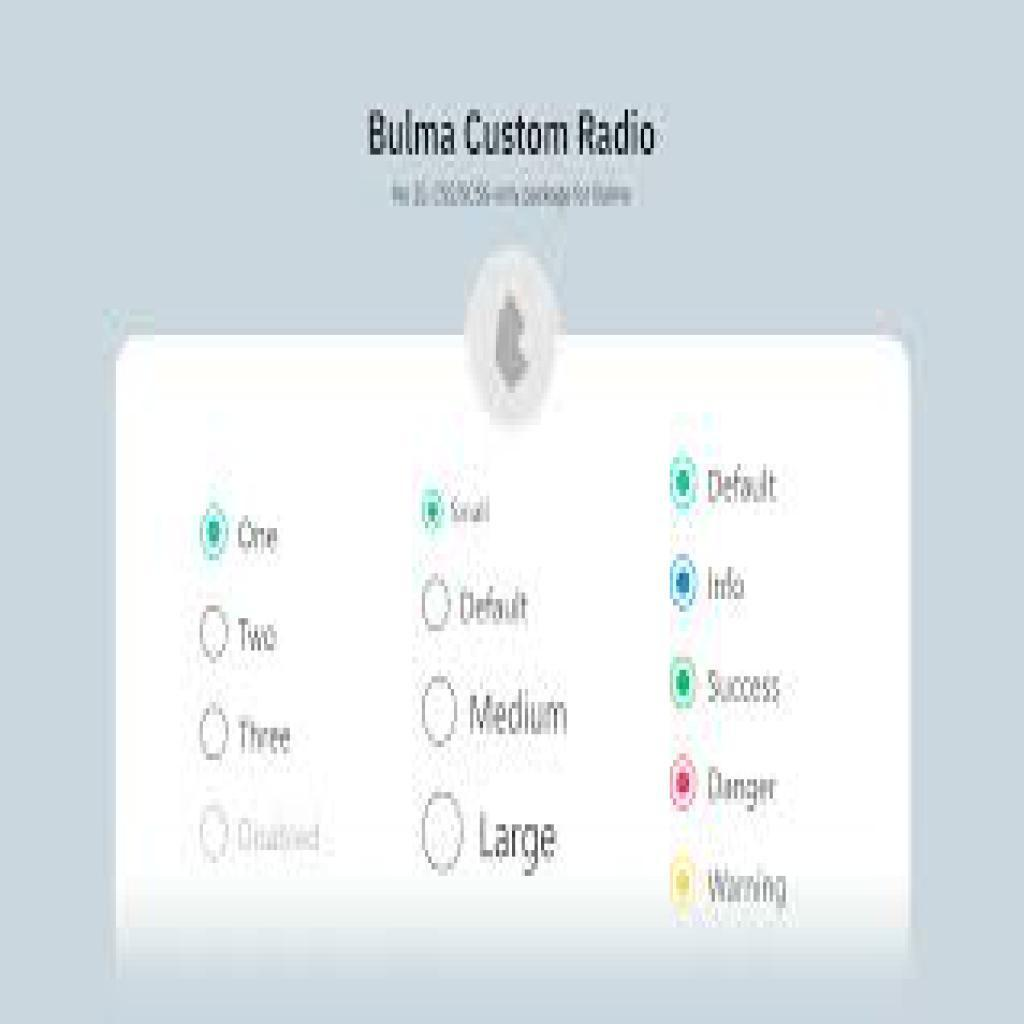radio: (419, 781, 467, 878), (420, 662, 463, 753), (665, 440, 701, 521), (668, 839, 702, 923), (191, 495, 228, 570), (665, 754, 706, 820), (420, 569, 458, 639), (665, 550, 702, 618), (201, 798, 234, 874), (200, 598, 233, 671), (666, 643, 700, 710), (199, 694, 228, 766), (424, 489, 445, 526)
